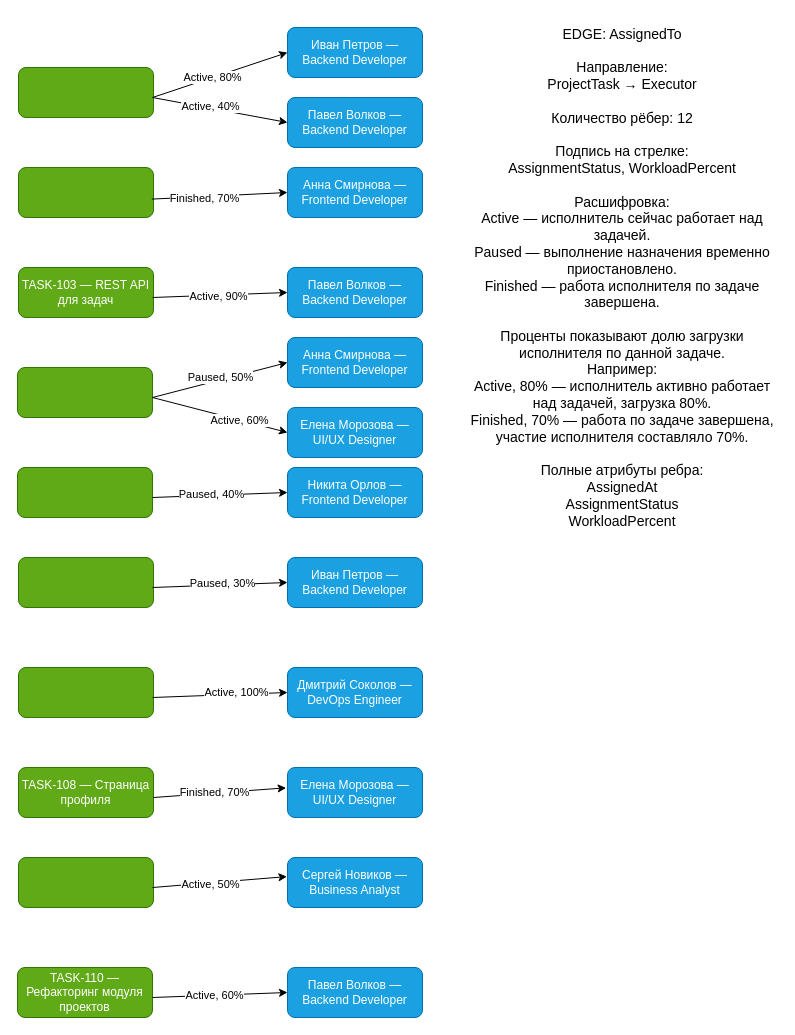
The diagram is 795 pixels wide and 1035 high, and some of its shapes have lost their labels. Each missing label, with the centre of its shape:
"TASK-101 — Авторизация пользователя" belongs at point 86,92.
"TASK-102 — Регистрация пользователя" belongs at point 86,192.
"TASK-104 — Kanban-доска" belongs at point 84,392.
"TASK-105 — Уведомления о дедлайнах" belongs at point 84,492.
"TASK-106 — Экспорт отчётов" belongs at point 86,582.
"TASK-107 — CI/CD pipeline" belongs at point 86,692.
"TASK-109 — Поиск по задачам" belongs at point 86,882.
